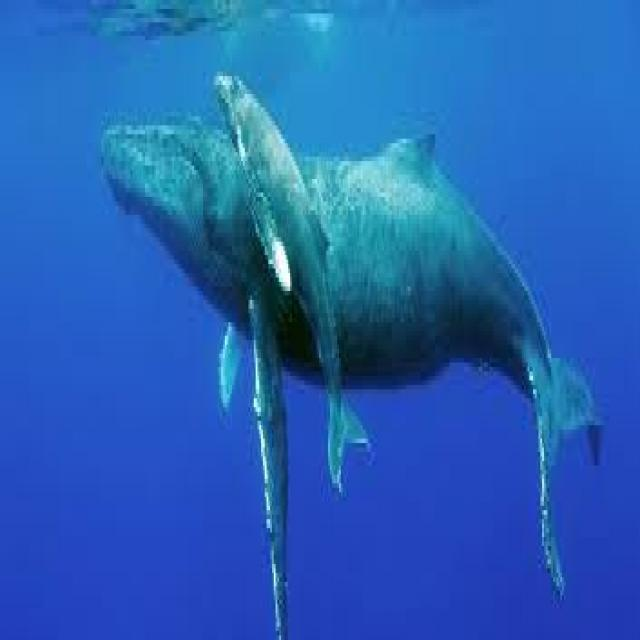blue_whale: (80, 44, 613, 636), (205, 36, 370, 524)
